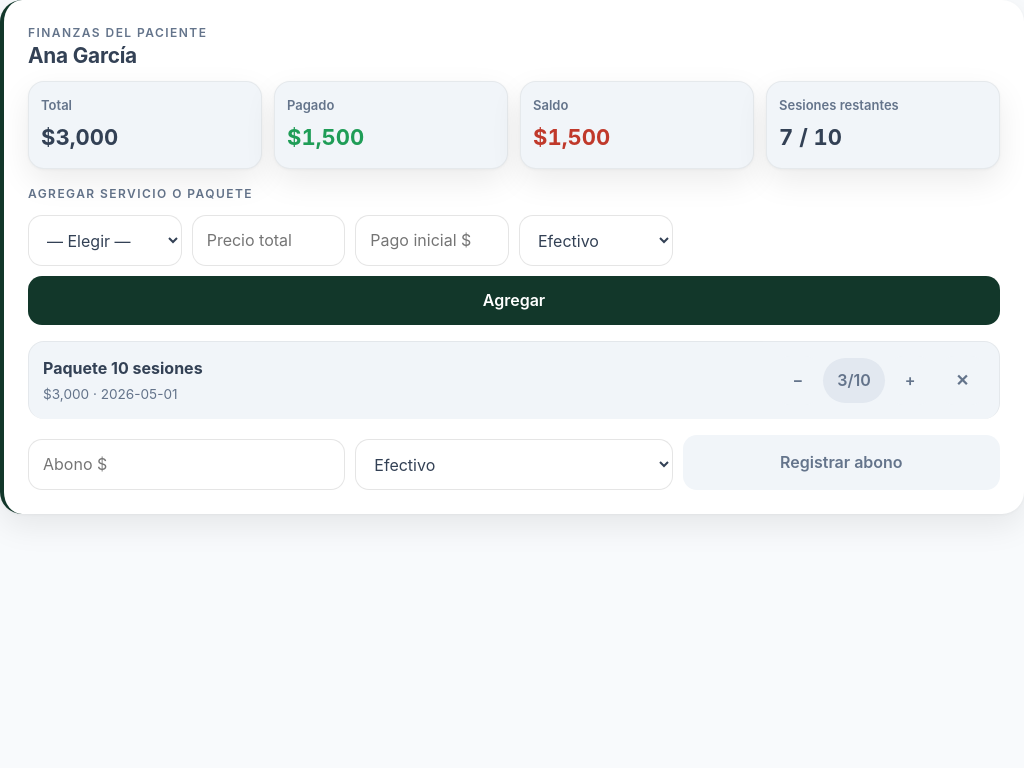
Scenario: PatientFinancePanel › applies card commission when method is tarjeta
Type "1000" into the number field with placeholder "Abono $" at (187, 465), box [28,439,345,490]
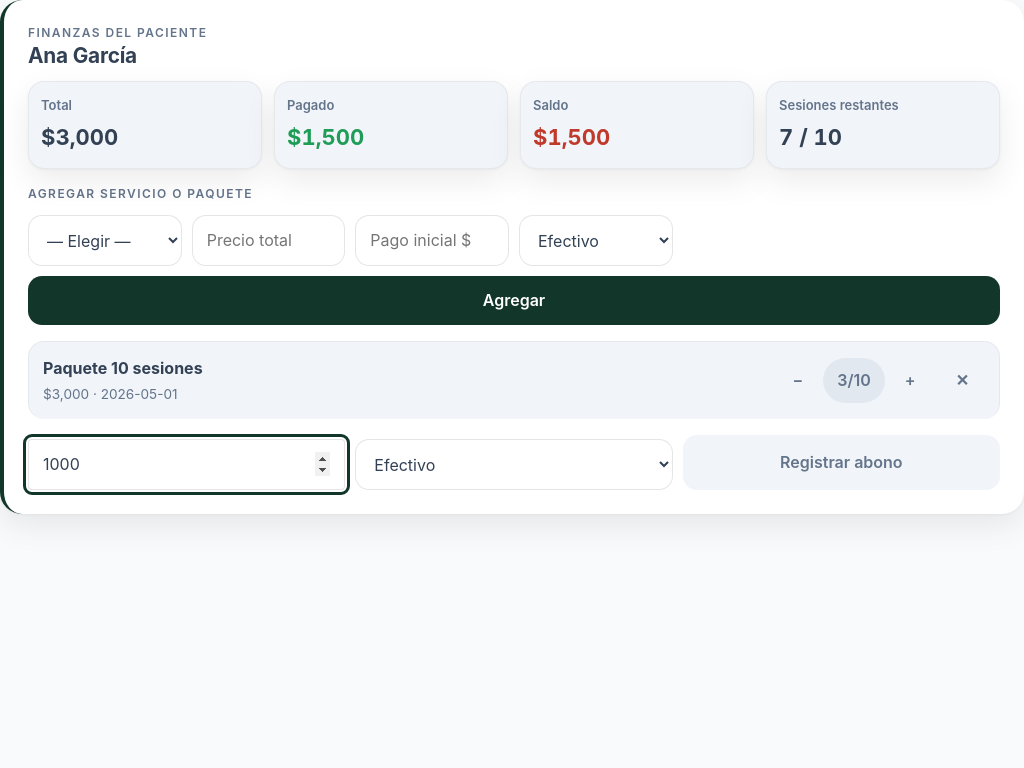
Select "Tarjeta" in the dropdown named "método de abono" at (514, 465), box [355,439,673,490]
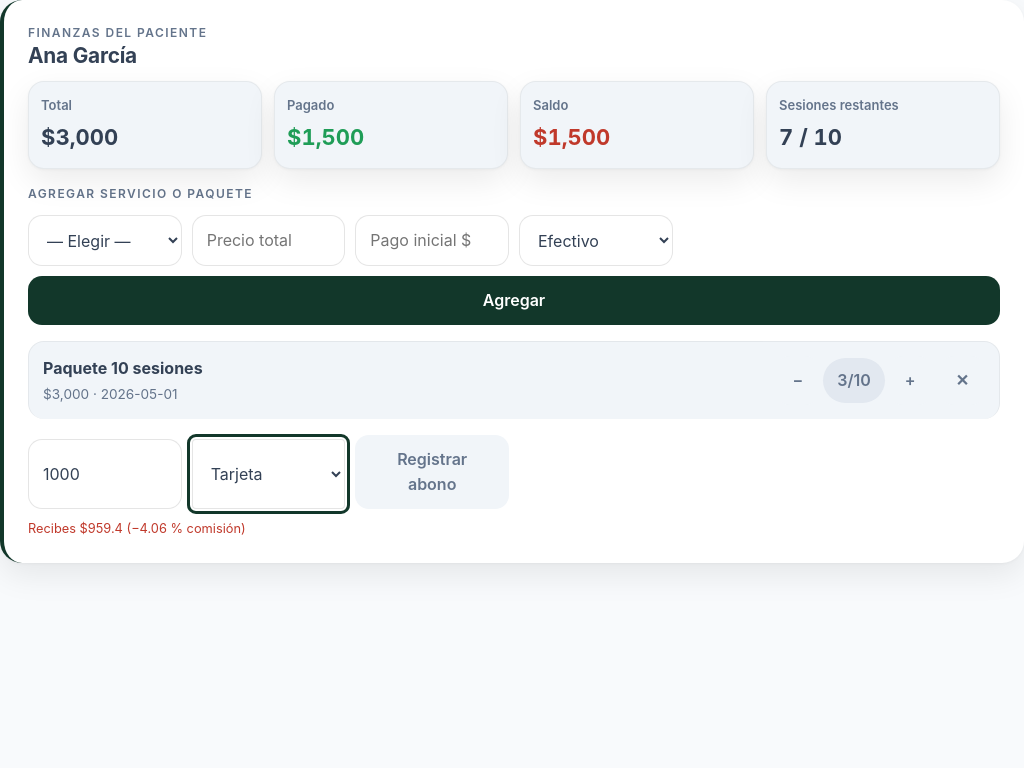
Expected: the text "Recibes $959.4 (−4.06 % comisión)" is shown, [28,521,246,536]
